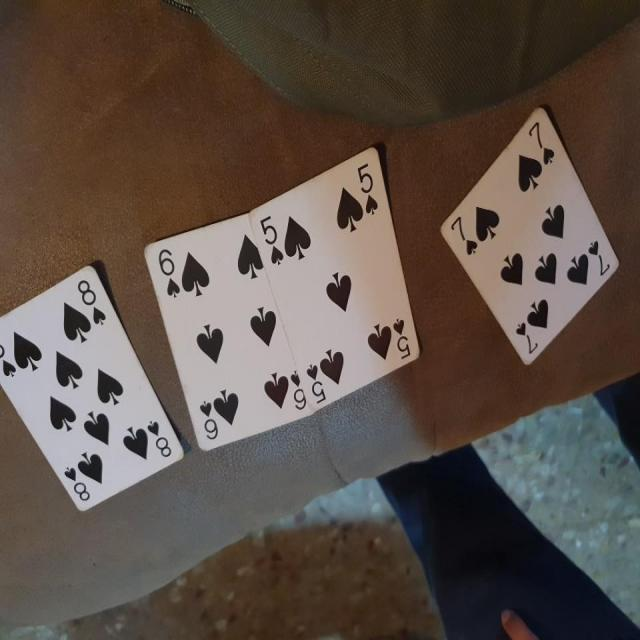5 Spades: (244, 144, 428, 421)
6 Spades: (136, 212, 312, 452)
7 Spades: (434, 101, 625, 382)
8 Spades: (0, 254, 186, 528)
